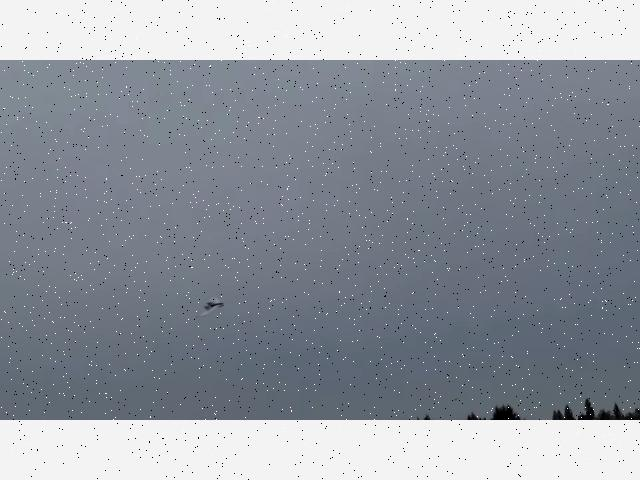Anti-Drone: (196, 298, 224, 318)
